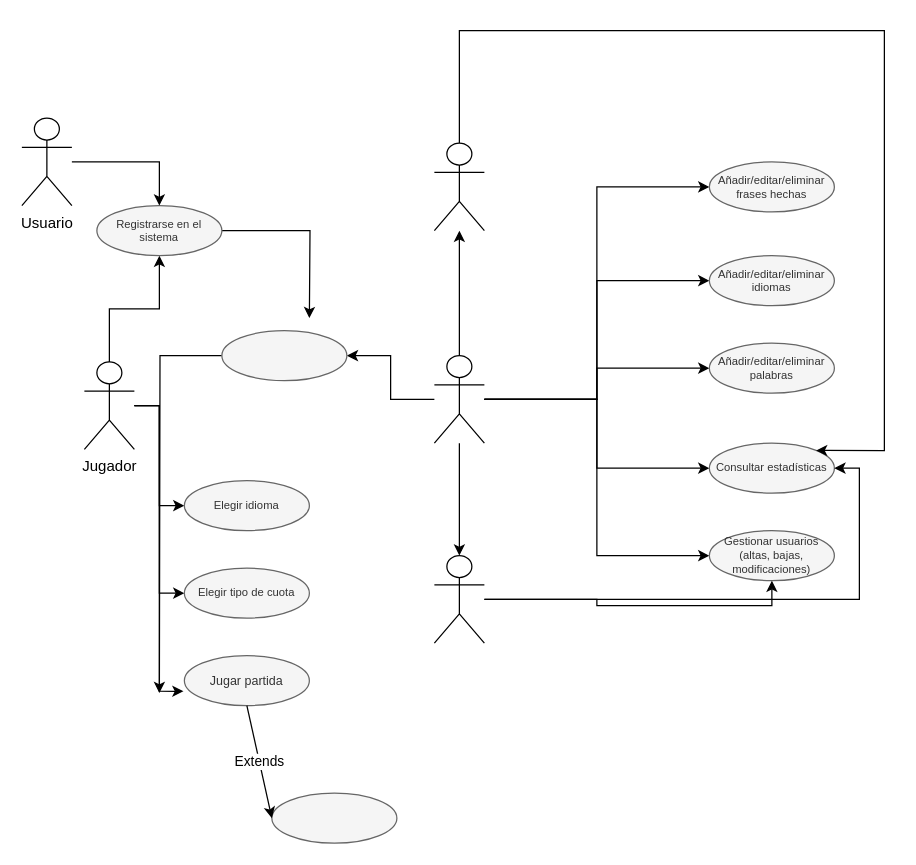
The diagram is 916 pixels wide and 865 high, and some of its shapes have lost their labels. Each missing label, with the centre of its shape:
"Admin LVL 1" goes at point 458,398.
"Admin LVL 2" goes at point 458,598.
"Admin LVL 3" goes at point 458,186.
"Consultar estadísticas de partidas" goes at point 334,817.
"Iniciar sesión" goes at point 284,355.
